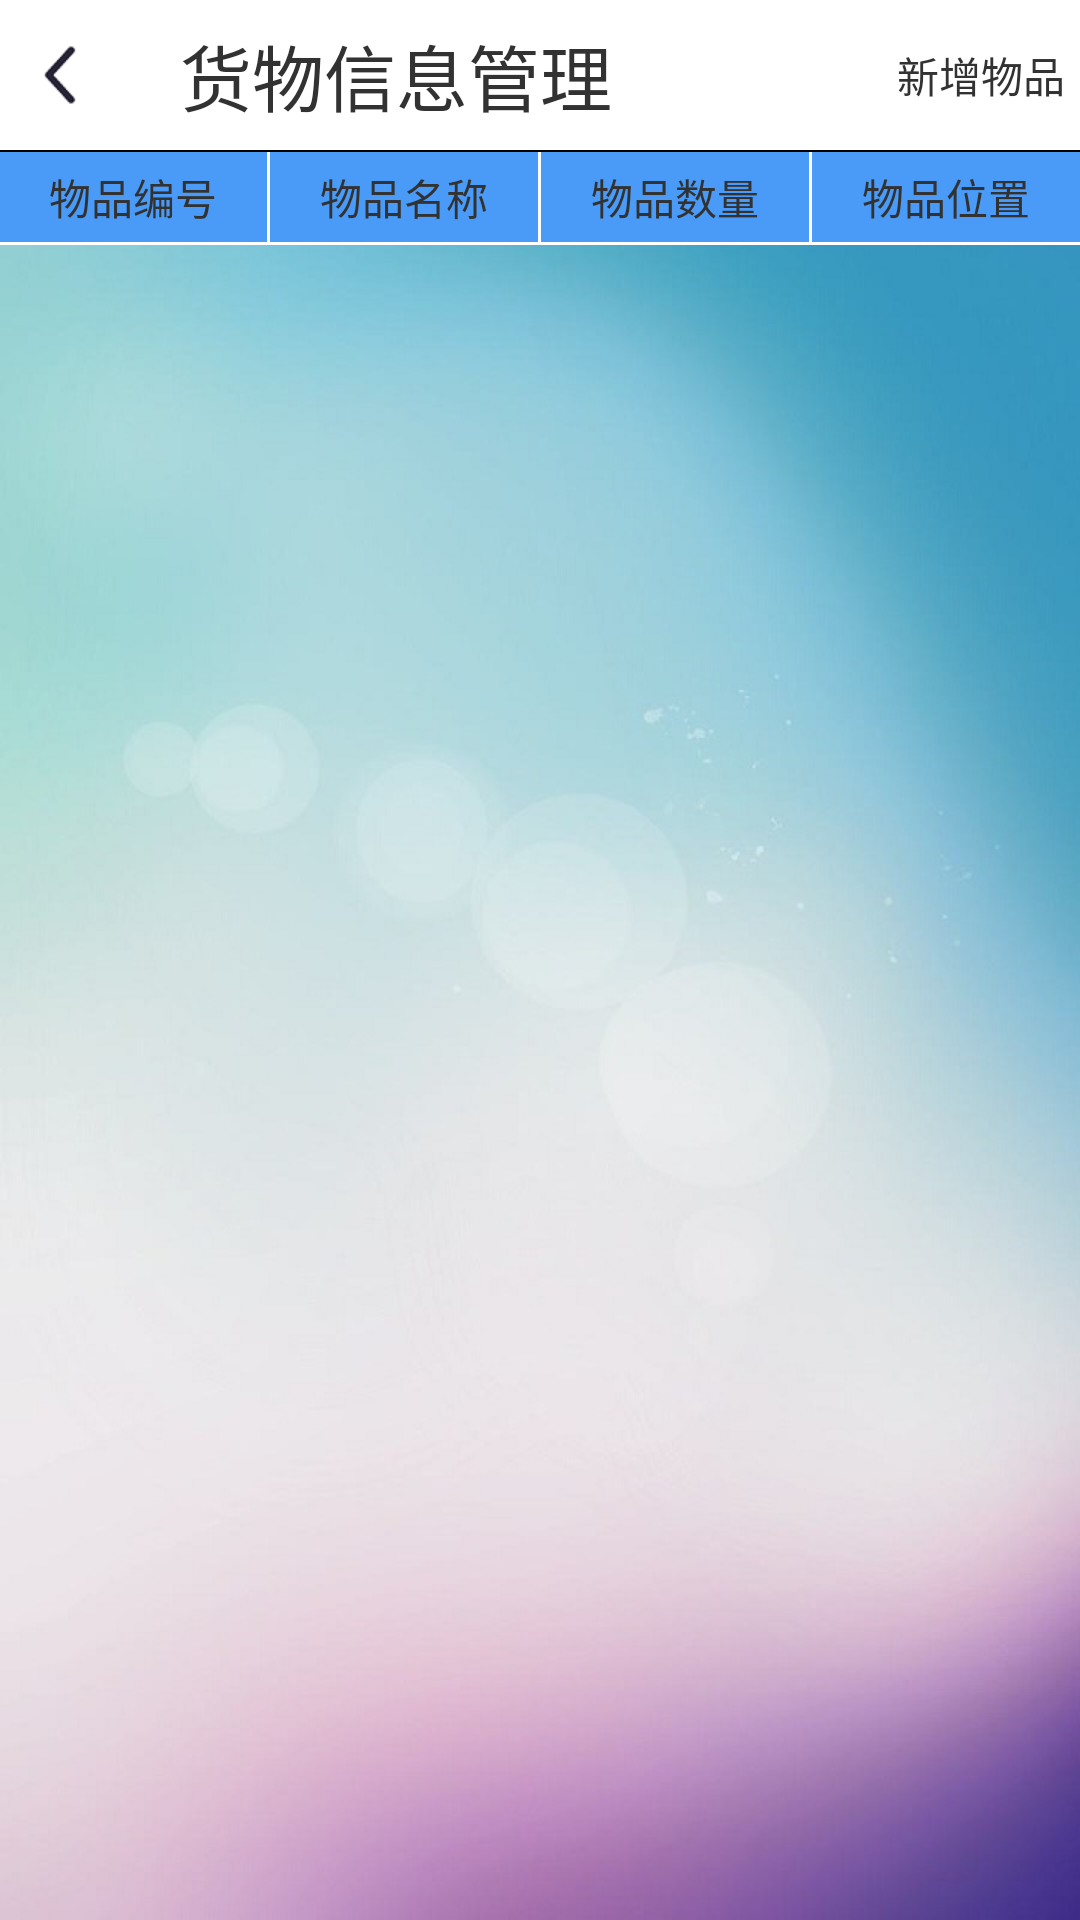

Icon bounding boxes for this 1080 × 1920 phone screenshot, format (x1, y1, x2, y2):
arrow back: (44, 46, 76, 104)
